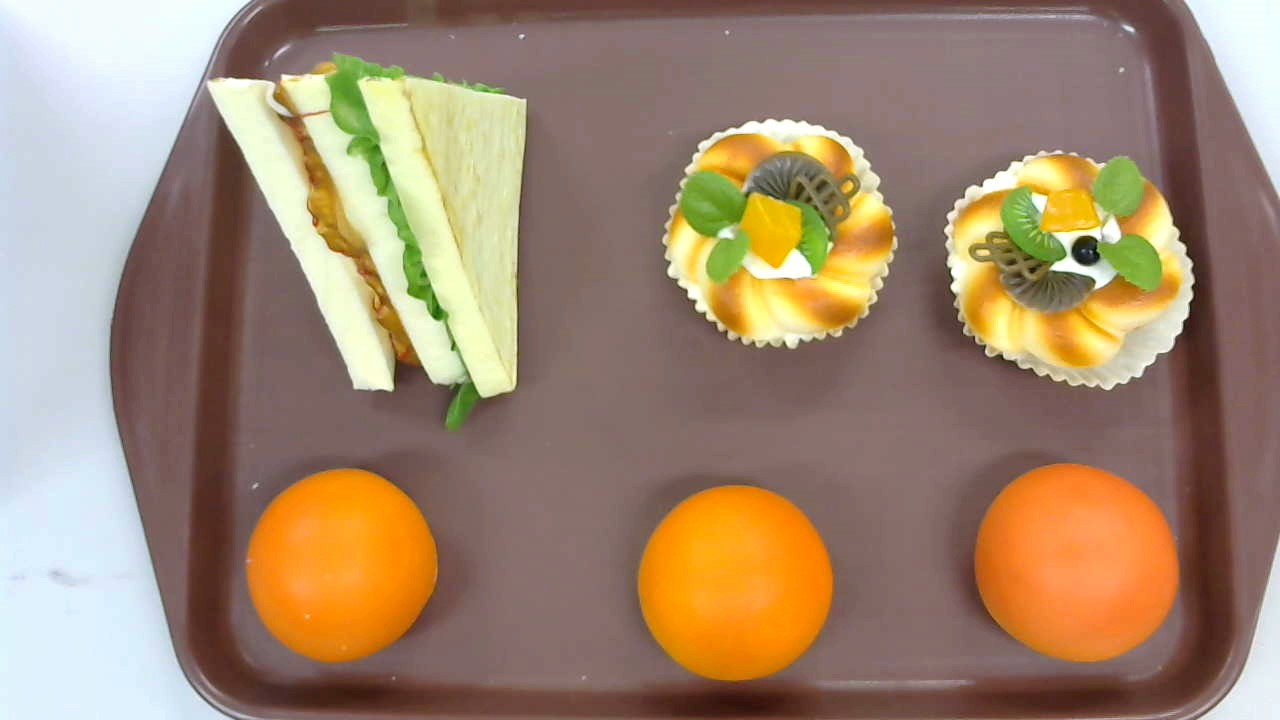bun: (974, 463, 1178, 663), (637, 485, 833, 683), (245, 469, 438, 660)
fruit tart: (943, 150, 1196, 391), (660, 117, 898, 350)
sandwich: (206, 50, 528, 434)
